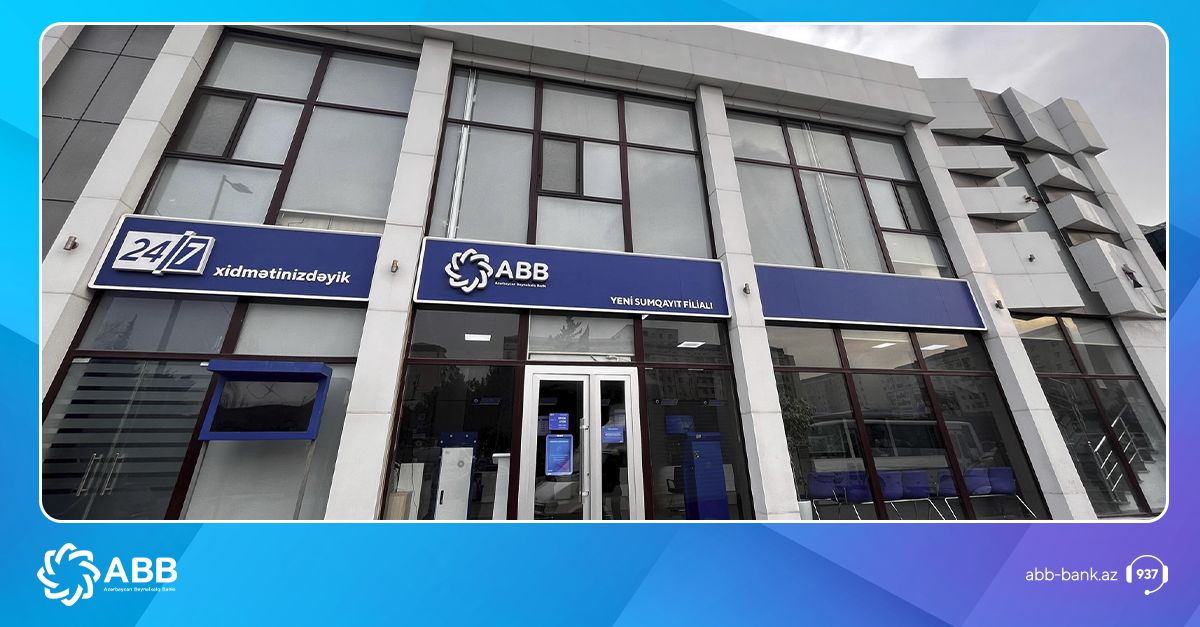ABB: (34, 541, 101, 608), (443, 246, 494, 295)
